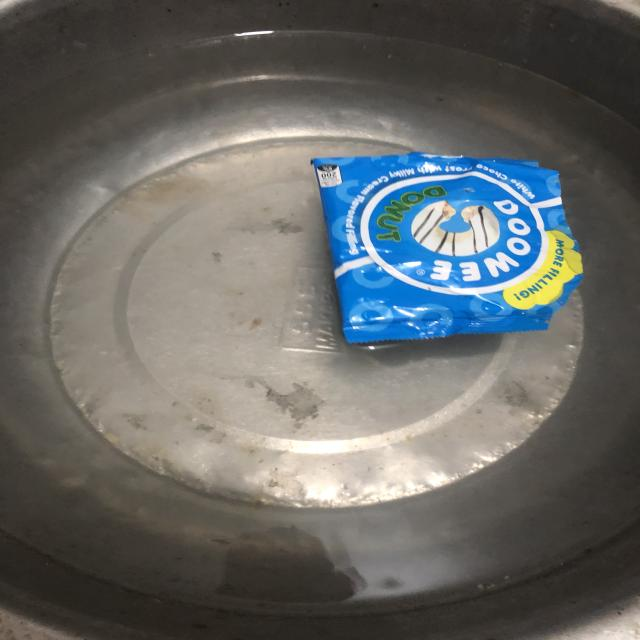Plastic Wrapper: (267, 127, 639, 367)
